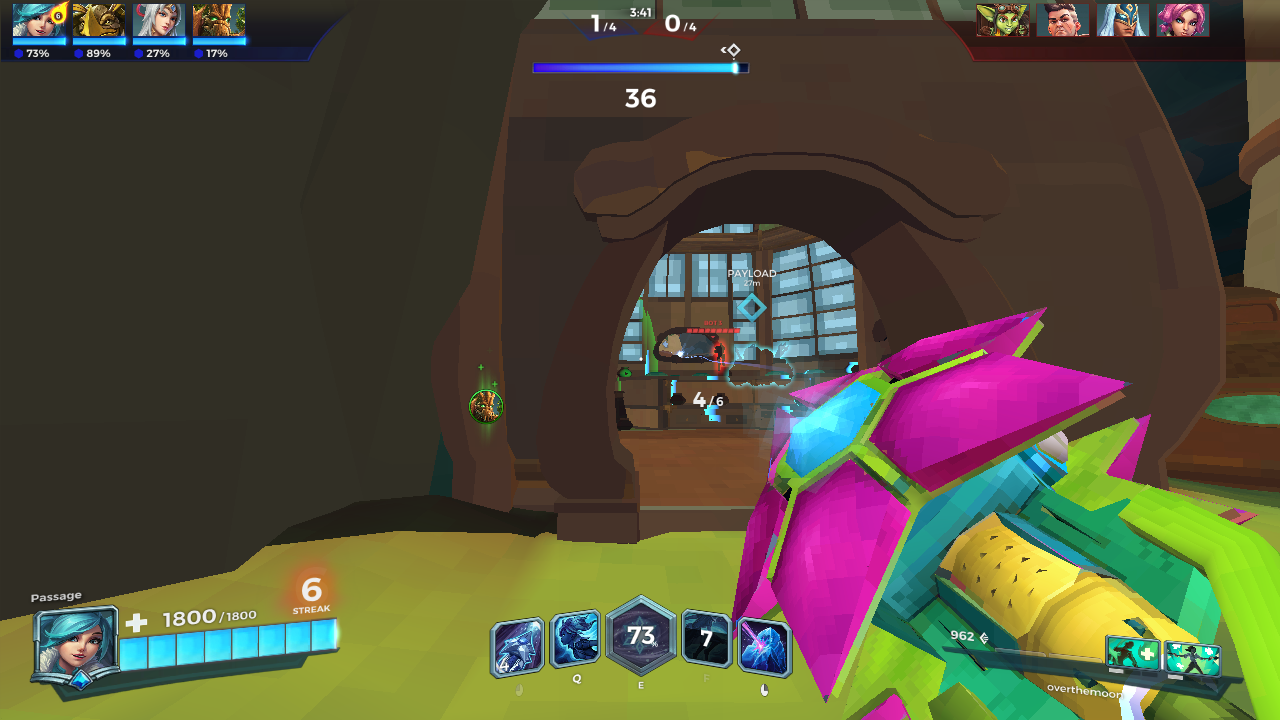model: (711, 341, 730, 377)
